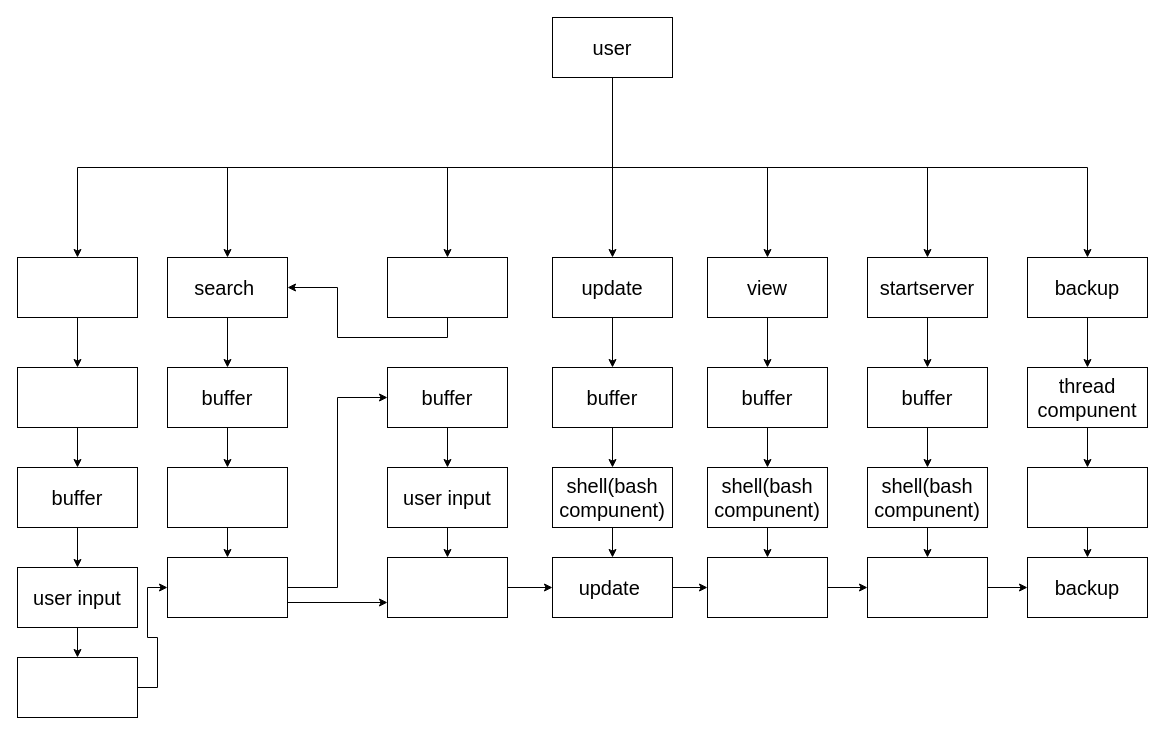
The diagram is 1165 pixels wide and 741 high, and some of its shapes have lost their labels. Each missing label, with the box of its shape:
add: (16, 256, 138, 318)
bash (shell compunent: (166, 466, 288, 528)
delete: (386, 256, 508, 318)
delete line using bash: (386, 556, 508, 618)
file processing (write): (16, 656, 138, 718)
memory allocation: (16, 366, 138, 428)
search and show: (166, 556, 288, 618)
server running: (866, 556, 988, 618)
show/view: (706, 556, 828, 618)
socket component: (1026, 466, 1148, 528)
